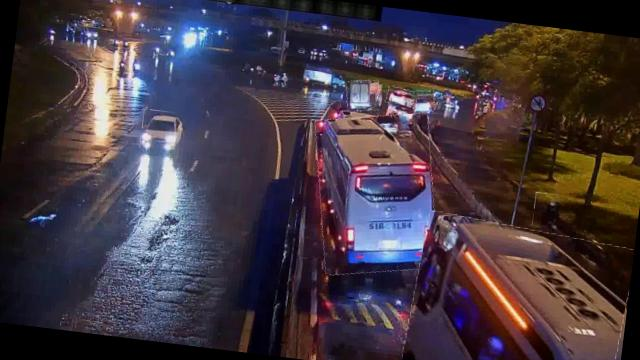Bike: (532, 192, 560, 229)
Bus: (401, 212, 634, 360), (303, 105, 448, 283)
Car: (139, 108, 183, 152), (385, 98, 417, 126), (384, 86, 416, 108), (410, 92, 434, 114)
Truck: (344, 78, 382, 114)
